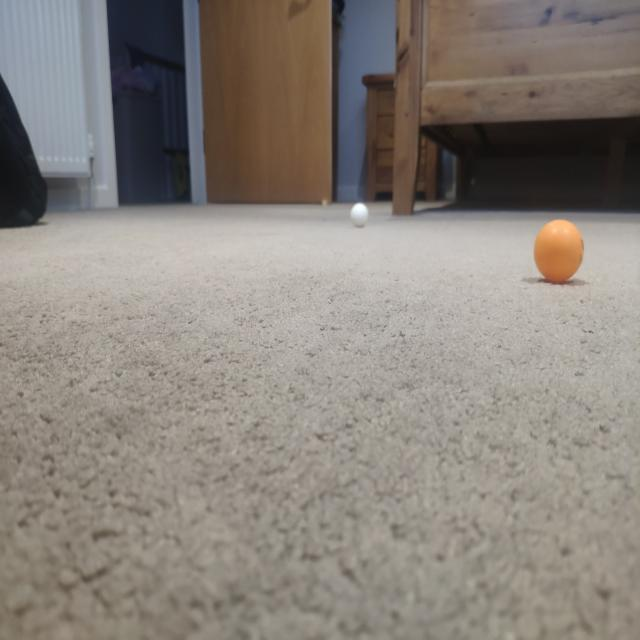oball: (530, 210, 592, 294)
